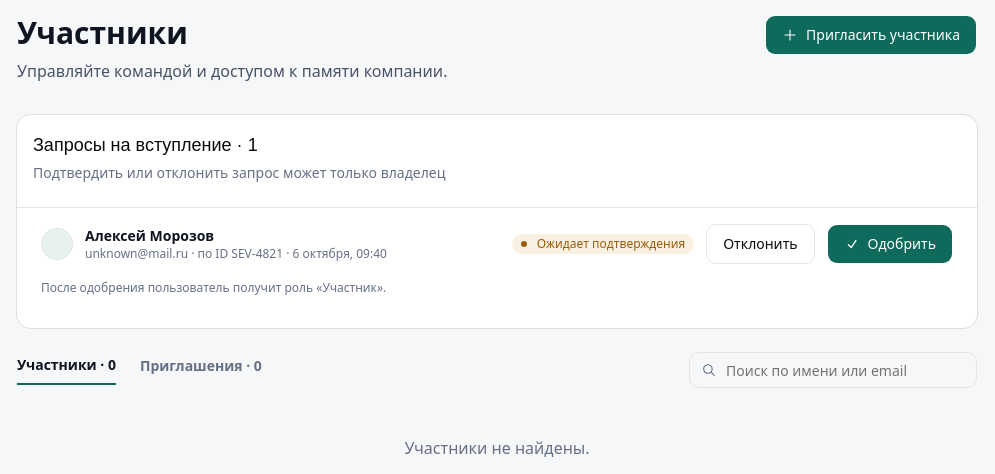
it: MembersPage — интеграция заявок › отклоняет заявку и убирает её из списка ожидающих
Check: the text "Запросы на вступление · 1" is shown, box [33,135,258,155]
// Отклоняем
Click the button "Отклонить" at (760, 244), box [706,224,815,264]
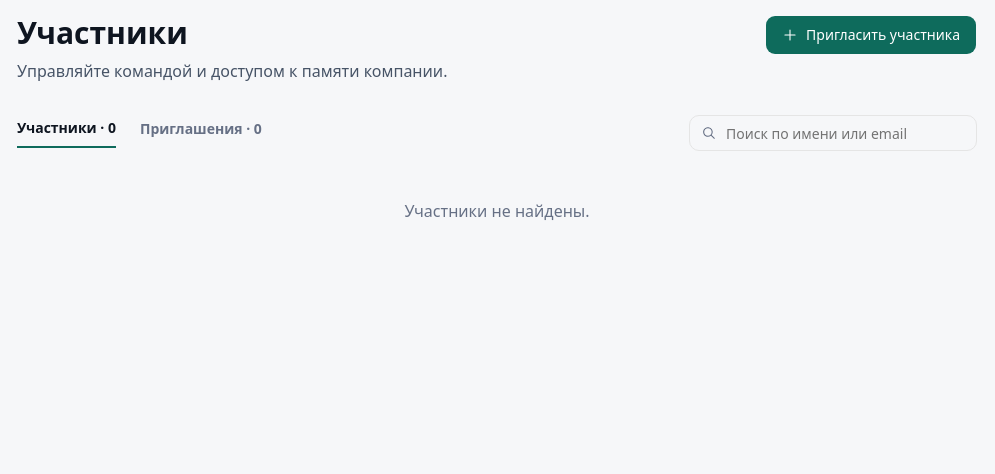
Check: the text "Запросы на вступление" is gone
